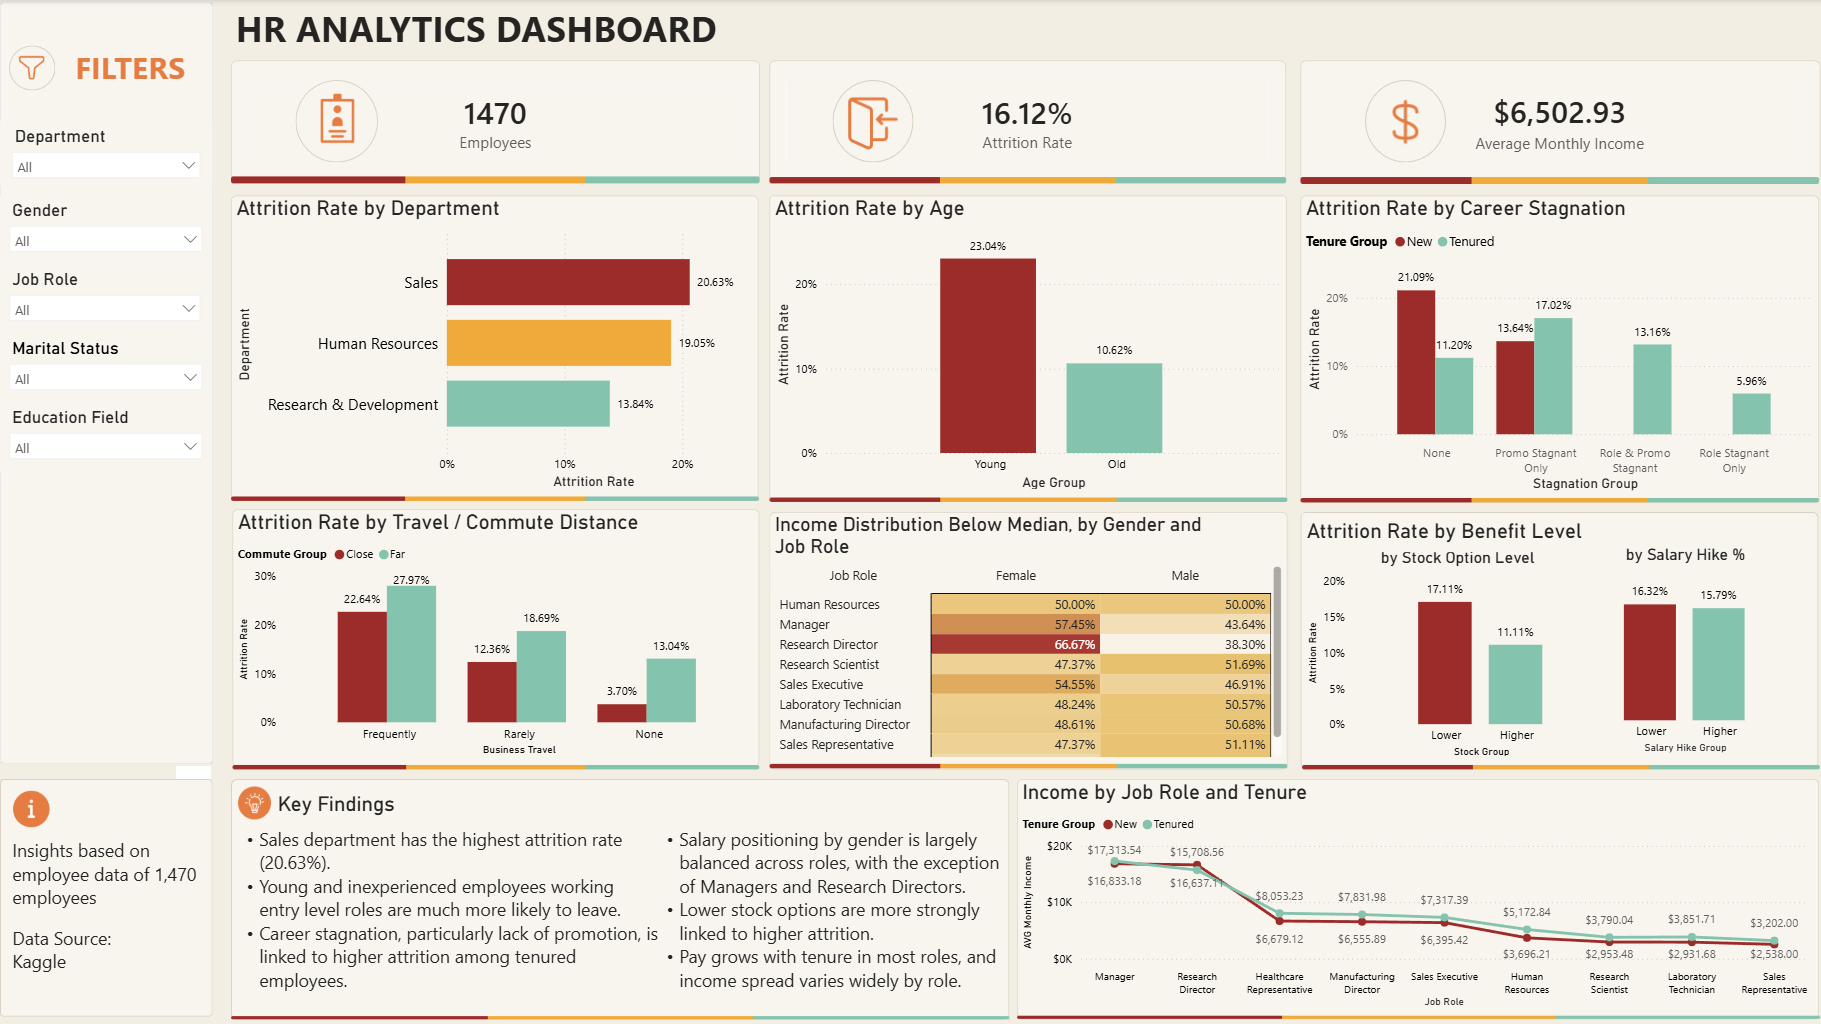

This screenshot's page, from the dashboard's own definition file:
{"tool":"powerbi","page":{"name":"Page 1","canvas":[1920,1080],"ordinal":0},"visuals":[{"type":"shape","box":[0,6.4,223.6,800.9],"z":0},{"type":"cardVisual","fields":{"Data":["Avg(HR.MonthlyIncome)"]},"box":[1367.2,64.4,546.6,128],"z":0,"group":"g14"},{"type":"cardVisual","title":"Total Employees","fields":{"Data":["HR.Total Employees"]},"box":[242.9,64.7,556,128],"z":0,"group":"g7"},{"type":"cardVisual","fields":{"Data":["HR.Attrition Rate"]},"box":[809.2,64.7,543,128.5],"z":0,"group":"g6"},{"type":"shape","box":[875.5,85.2,85.2,86.8],"z":0,"group":"g18"},{"type":"shape","box":[1435.5,85.2,85.2,86.8],"z":0,"group":"g19"},{"type":"group","id":"g1","title":"Group 4","box":[243.6,206.6,554.5,321.3],"z":0,"group":"g10"},{"type":"clusteredBarChart","title":"Attrition Rate by Department","fields":{"Category":["HR.Department"],"Y":["HR.Attrition Rate"]},"box":[243.6,206.6,554.5,321.3],"z":0,"group":"g1"},{"type":"group","id":"g2","title":"Group 5","box":[1367.8,206.6,545.6,323.1],"z":0,"group":"g11"},{"type":"clusteredColumnChart","title":"Attrition Rate by Career Stagnation","fields":{"Y":["HR.Attrition Rate"],"Series":["HR.Tenure Group"],"Category":["HR.Stagnation Group"]},"box":[1367.8,206.6,545.6,323.1],"z":0,"group":"g2"},{"type":"group","id":"g3","title":"Group 8","box":[243.1,539.5,554.7,271.4],"z":0,"group":"g8"},{"type":"pivotTable","title":"Attrition Rate by Travel / Commute (Married Employees)","fields":{"Values":["HR.Attrition Rate"],"Columns":["HR.Commute Group"],"Rows":["HR.BusinessTravel"]},"box":[243.1,539.5,554.7,271.4],"z":0,"group":"g3"},{"type":"group","id":"g4","title":"Group 6","box":[1367.6,539.5,544.8,269.7],"z":0,"group":"g9"},{"type":"shape","box":[1367.6,539.5,544.8,269.7],"z":0,"group":"g4"},{"type":"group","id":"g5","title":"Group 7","box":[1069.1,820,843.1,252.3],"z":0,"group":"g12"},{"type":"lineChart","title":"Income by Job Role and Tenure","fields":{"Category":["HR.JobRole"],"Y":["Avg(HR.MonthlyIncome)"],"Series":["HR.Tenure Group"]},"box":[1069.1,820,843.1,252.3],"z":0,"group":"g5"},{"type":"shape","title":"KEY FINNGS","box":[243.2,820.3,818.6,253.1],"z":0,"group":"g13"},{"type":"image","box":[883.4,97.8,69.4,66.3],"z":1000,"group":"g18"},{"type":"slicer","fields":{"Values":["HR.Department"]},"box":[0,149.2,212.5,68.3],"z":1000},{"type":"image","box":[1367.4,184,545.1,12.5],"z":1000,"group":"g14"},{"type":"image","box":[243.1,185,555.9,11.7],"z":1000,"group":"g7"},{"type":"image","box":[809.2,185,543,11.8],"z":1000,"group":"g6"},{"type":"columnChart","title":"Attrition Rate by Age","fields":{"Category":["HR.Age Group"],"Y":["HR.Attrition Rate"]},"box":[809.4,206.6,544.2,321.8],"z":1000,"group":"g15"},{"type":"image","box":[242.9,516,555.1,18.7],"z":1000,"group":"g10"},{"type":"image","box":[1367.6,517.1,545.6,19.2],"z":1000,"group":"g11"},{"type":"clusteredColumnChart","title":"by Stock Option Level","fields":{"Y":["HR.Attrition Rate"],"Category":["HR.Stock Group"]},"box":[1369.7,577.2,327.3,230.9],"z":1000,"group":"g4"},{"type":"image","box":[1368.6,797.9,544.8,19.3],"z":1000,"group":"g9"},{"type":"image","box":[242.9,798.3,554.6,19],"z":1000,"group":"g8"},{"type":"image","box":[242.9,1061.3,818.6,19],"z":1000,"group":"g13"},{"type":"image","box":[1069.2,1062.1,844.5,15.1],"z":1000,"group":"g12"},{"type":"slicer","fields":{"Values":["HR.JobRole"]},"box":[0,290,212.5,67.5],"z":2000},{"type":"clusteredColumnChart","title":"by Salary Hike %","fields":{"Y":["HR.Attrition Rate"],"Category":["HR.Salary Hike Group"]},"box":[1637,574.5,270,230],"z":2000,"group":"g4"},{"type":"slicer","fields":{"Values":["HR.Gender"]},"box":[0,217.5,212.5,72.5],"z":3000},{"type":"textbox","box":[1368.8,540.9,320,40.9],"z":3000,"group":"g4"},{"type":"textbox","box":[243.3,0,586.7,67.8],"z":4000},{"type":"group","id":"g6","title":"Group 2","box":[809.2,64.7,548,132.5],"z":5000},{"type":"group","id":"g7","title":"Group 1","box":[242.9,64.7,555.3,132.5],"z":6000},{"type":"textbox","box":[0,59.2,224.2,56.7],"z":7000},{"type":"group","id":"g8","title":"Group 9","box":[242.9,539.5,555.3,277.6],"z":8000},{"type":"group","id":"g9","title":"Group 10","box":[1367.6,539.5,545.8,277.6],"z":9000},{"type":"group","id":"g10","title":"Group 11","box":[242.9,206.6,555.3,328.1],"z":10000},{"type":"group","id":"g11","title":"Group 12","box":[1367.6,206.6,545.8,329.7],"z":11000},{"type":"group","id":"g12","title":"Group 13","box":[1069.1,820,844.5,257.3],"z":12000},{"type":"group","id":"g13","title":"Group 14","box":[242.9,820.3,818.7,260.3],"z":13000},{"type":"image","box":[809.2,513.8,544.7,24.6],"z":14000,"group":"g15"},{"type":"textbox","box":[244.5,870.9,448.2,192.7],"z":14000},{"type":"textbox","box":[287.3,828.2,267.3,36.4],"z":15000},{"type":"textbox","box":[686.4,870.9,375.5,190.9],"z":16000},{"type":"group","id":"g14","title":"Group 3","box":[1367.2,64.4,546.7,132.2],"z":17000},{"type":"columnChart","title":"Below Median Income % by Gender and Job Role","fields":{"Category":["HR.JobRole"],"Series":["HR.Gender"],"Y":["HR.Below Median %"]},"box":[809.2,540,544.7,270.3],"z":17000,"group":"g16"},{"type":"group","id":"g15","title":"Group 15","box":[809.2,206.6,544.2,331.3],"z":18000},{"type":"image","box":[809.7,796.1,544.5,23.9],"z":18000,"group":"g16"},{"type":"group","id":"g16","title":"Group 16","box":[809.2,540,545,280],"z":19000},{"type":"group","id":"g17","title":"Group 17","box":[310.8,85.2,86.8,86.8],"z":20000},{"type":"shape","box":[310.8,85.2,86.8,86.8],"z":20000,"group":"g17"},{"type":"group","id":"g18","title":"Group 18","box":[875.5,85.2,85.2,86.8],"z":21000},{"type":"image","box":[320.3,91.5,69.4,67.8],"z":21000,"group":"g17"},{"type":"group","id":"g19","title":"Group 18","box":[1435.5,85.2,85.2,86.8],"z":22000},{"type":"image","box":[1443.4,96.2,69.4,66.3],"z":23000},{"type":"shape","box":[0,820,223.6,250],"z":24000},{"type":"textbox","box":[8.2,876.4,214.5,181.8],"z":25000},{"type":"image","box":[8.2,828.2,50,47.3],"z":26000},{"type":"image","box":[247.3,828.2,40,34.5],"z":27000}]}

Visuals, with their boxes in screenshot pixels (x1, y1, x2, y2), scaled from the page's 1920x1080 canvas onto the 1821x1024 screenshot:
shape: pyautogui.locateOnScreen(0, 6, 212, 765)
cardVisual - Avg(HR.MonthlyIncome): pyautogui.locateOnScreen(1297, 61, 1815, 182)
"Total Employees" cardVisual: pyautogui.locateOnScreen(230, 61, 758, 183)
cardVisual - HR.Attrition Rate: pyautogui.locateOnScreen(767, 61, 1282, 183)
shape: pyautogui.locateOnScreen(830, 81, 911, 163)
shape: pyautogui.locateOnScreen(1361, 81, 1442, 163)
"Group 4" group: pyautogui.locateOnScreen(231, 196, 757, 501)
"Attrition Rate by Department" clusteredBarChart: pyautogui.locateOnScreen(231, 196, 757, 501)
"Group 5" group: pyautogui.locateOnScreen(1297, 196, 1815, 502)
"Attrition Rate by Career Stagnation" clusteredColumnChart: pyautogui.locateOnScreen(1297, 196, 1815, 502)
"Group 8" group: pyautogui.locateOnScreen(231, 512, 757, 769)
"Attrition Rate by Travel / Commute (Married Employees)" pivotTable: pyautogui.locateOnScreen(231, 512, 757, 769)
"Group 6" group: pyautogui.locateOnScreen(1297, 512, 1814, 767)
shape: pyautogui.locateOnScreen(1297, 512, 1814, 767)
"Group 7" group: pyautogui.locateOnScreen(1014, 777, 1814, 1017)
"Income by Job Role and Tenure" lineChart: pyautogui.locateOnScreen(1014, 777, 1814, 1017)
"KEY FINNGS" shape: pyautogui.locateOnScreen(231, 778, 1007, 1018)
image: pyautogui.locateOnScreen(838, 93, 904, 156)
slicer - HR.Department: pyautogui.locateOnScreen(0, 141, 202, 206)
image: pyautogui.locateOnScreen(1297, 174, 1814, 186)
image: pyautogui.locateOnScreen(231, 175, 758, 187)
image: pyautogui.locateOnScreen(767, 175, 1282, 187)
"Attrition Rate by Age" columnChart: pyautogui.locateOnScreen(768, 196, 1284, 501)
image: pyautogui.locateOnScreen(230, 489, 757, 507)
image: pyautogui.locateOnScreen(1297, 490, 1815, 508)
"by Stock Option Level" clusteredColumnChart: pyautogui.locateOnScreen(1299, 547, 1609, 766)
image: pyautogui.locateOnScreen(1298, 757, 1815, 775)
image: pyautogui.locateOnScreen(230, 757, 756, 775)
image: pyautogui.locateOnScreen(230, 1006, 1007, 1023)
image: pyautogui.locateOnScreen(1014, 1007, 1815, 1021)
slicer - HR.JobRole: pyautogui.locateOnScreen(0, 275, 202, 339)
"by Salary Hike %" clusteredColumnChart: pyautogui.locateOnScreen(1553, 545, 1809, 763)
slicer - HR.Gender: pyautogui.locateOnScreen(0, 206, 202, 275)
textbox: pyautogui.locateOnScreen(1298, 513, 1602, 552)
textbox: pyautogui.locateOnScreen(231, 0, 787, 64)
"Group 2" group: pyautogui.locateOnScreen(767, 61, 1287, 187)
"Group 1" group: pyautogui.locateOnScreen(230, 61, 757, 187)
textbox: pyautogui.locateOnScreen(0, 56, 213, 110)
"Group 9" group: pyautogui.locateOnScreen(230, 512, 757, 775)
"Group 10" group: pyautogui.locateOnScreen(1297, 512, 1815, 775)
"Group 11" group: pyautogui.locateOnScreen(230, 196, 757, 507)
"Group 12" group: pyautogui.locateOnScreen(1297, 196, 1815, 508)
"Group 13" group: pyautogui.locateOnScreen(1014, 777, 1815, 1021)
"Group 14" group: pyautogui.locateOnScreen(230, 778, 1007, 1023)
image: pyautogui.locateOnScreen(767, 487, 1284, 510)
textbox: pyautogui.locateOnScreen(232, 826, 657, 1008)
textbox: pyautogui.locateOnScreen(272, 785, 526, 820)
textbox: pyautogui.locateOnScreen(651, 826, 1007, 1007)
"Group 3" group: pyautogui.locateOnScreen(1297, 61, 1815, 186)
"Below Median Income % by Gender and Job Role" columnChart: pyautogui.locateOnScreen(767, 512, 1284, 768)
"Group 15" group: pyautogui.locateOnScreen(767, 196, 1284, 510)
image: pyautogui.locateOnScreen(768, 755, 1284, 777)
"Group 16" group: pyautogui.locateOnScreen(767, 512, 1284, 777)
"Group 17" group: pyautogui.locateOnScreen(295, 81, 377, 163)
shape: pyautogui.locateOnScreen(295, 81, 377, 163)
"Group 18" group: pyautogui.locateOnScreen(830, 81, 911, 163)
image: pyautogui.locateOnScreen(304, 87, 370, 151)
"Group 18" group: pyautogui.locateOnScreen(1361, 81, 1442, 163)
image: pyautogui.locateOnScreen(1369, 91, 1435, 154)
shape: pyautogui.locateOnScreen(0, 777, 212, 1015)
textbox: pyautogui.locateOnScreen(8, 831, 211, 1003)
image: pyautogui.locateOnScreen(8, 785, 55, 830)
image: pyautogui.locateOnScreen(235, 785, 272, 818)
